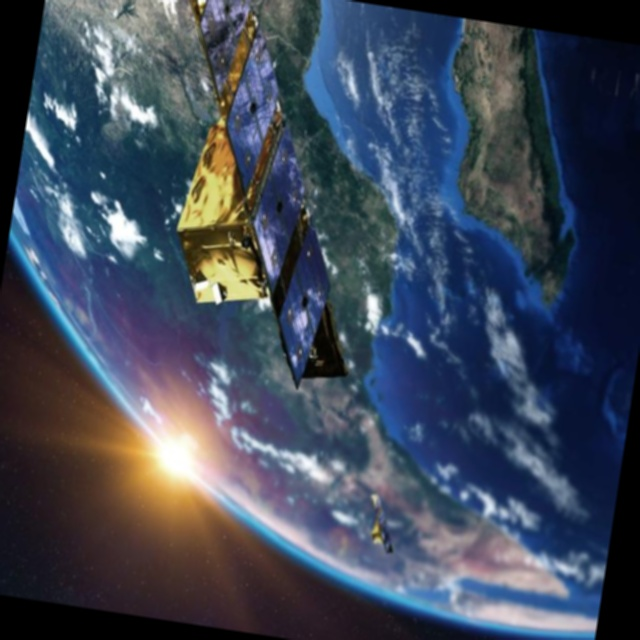satellite: (117, 0, 411, 413), (356, 486, 405, 574)
